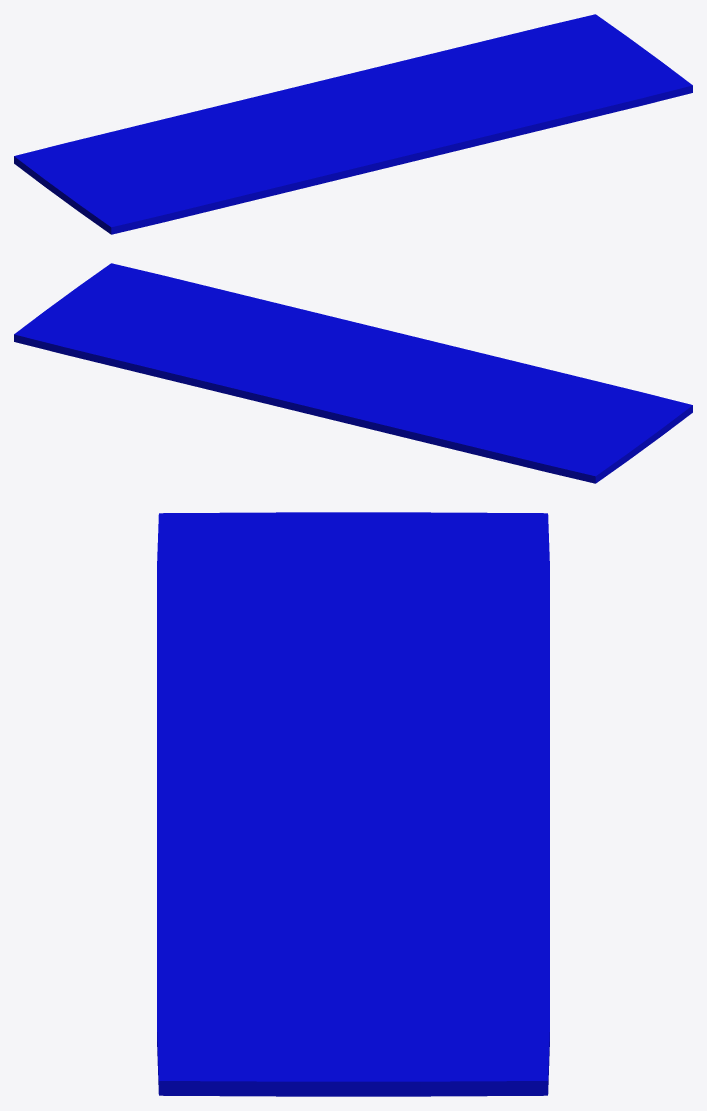
Rendered from komono22.fbx.
3 views of the same model, one above another, from view 1: azimuth 30°, elevation 25°; view 2: azimuth 150°, elevation 25°; view 3: azimuth 270°, elevation 25° (orthographic). The views are drawn at different scales.
Visible parts, largest first — view 1: Cube.008; view 2: Cube.008; view 3: Cube.008.
Boxes of the visible parts, left/top/right/bottom form: Cube.008: left=14, top=14, right=692, bottom=234; Cube.008: left=14, top=263, right=692, bottom=483; Cube.008: left=157, top=512, right=549, bottom=1096.
Size of the model in its own units: 305 by 3.72 by 89.
